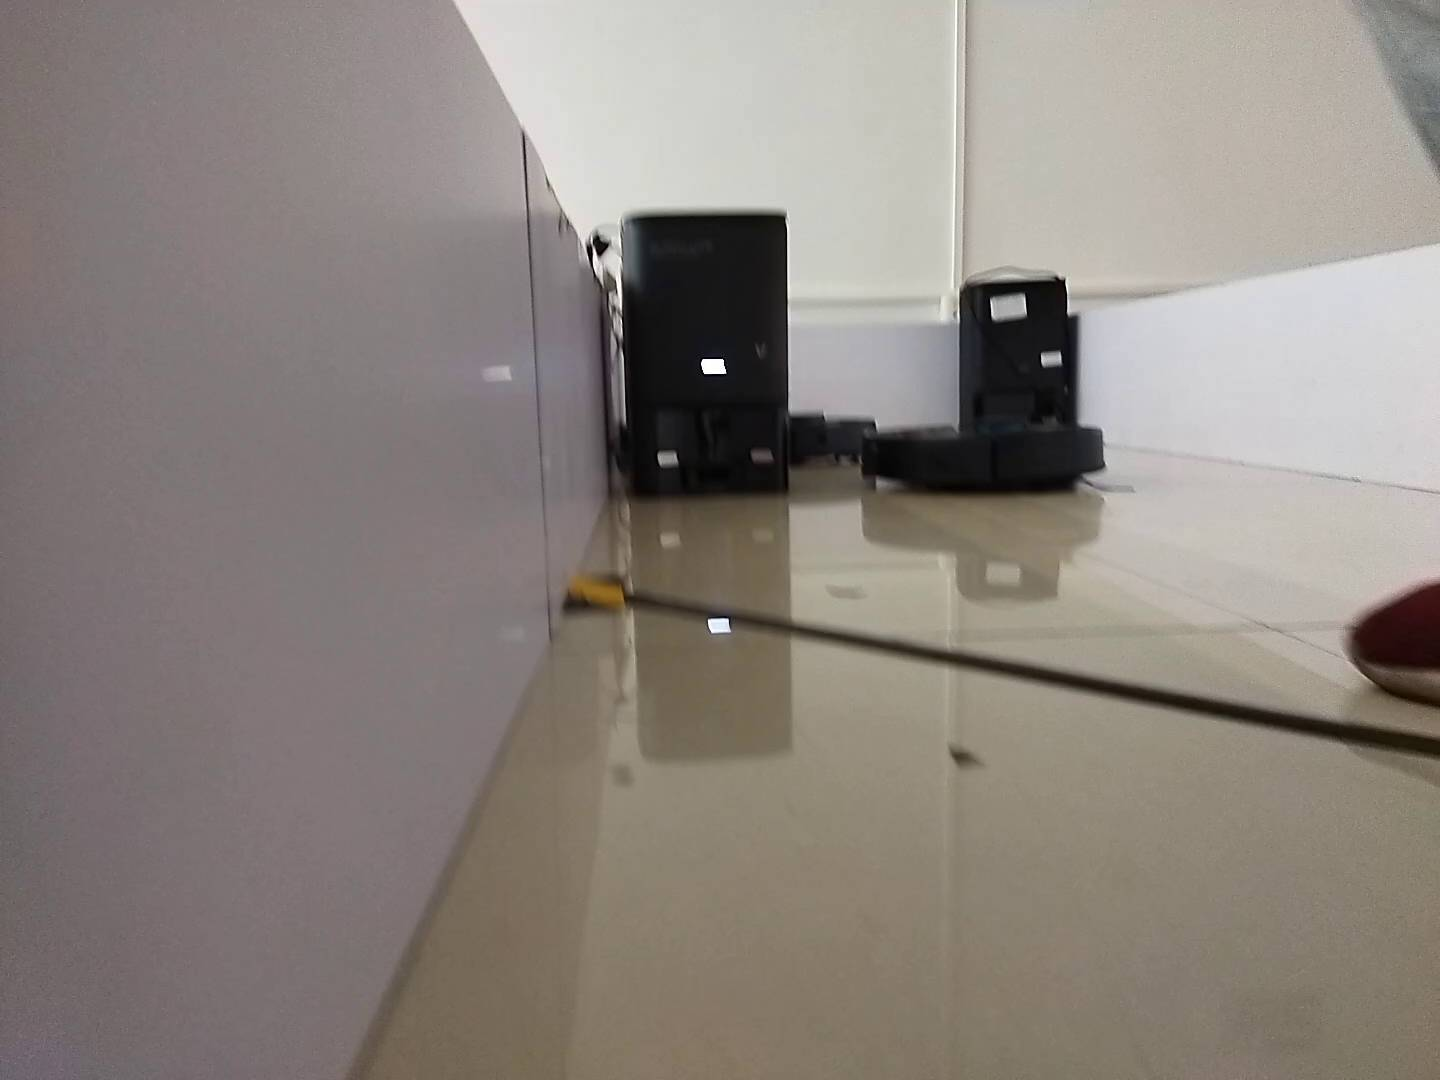dust collecting barrel: (622, 209, 791, 503), (958, 279, 1071, 431)
